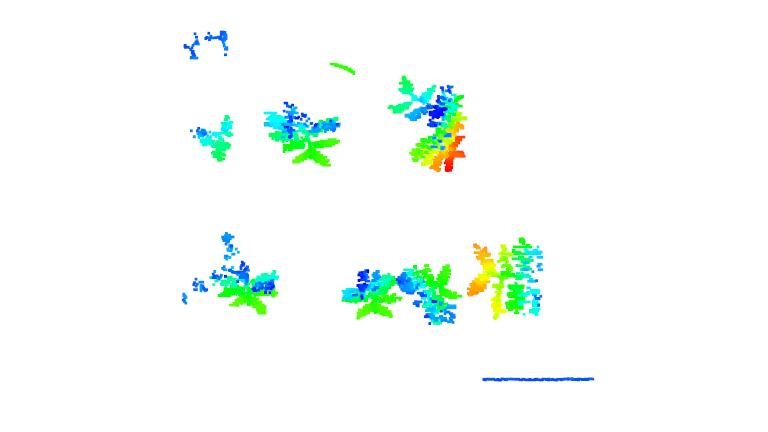chickpea: (387, 74, 468, 173), (465, 235, 546, 321), (263, 103, 340, 168), (397, 261, 465, 327), (215, 261, 279, 317), (338, 267, 396, 319), (192, 114, 235, 161)
